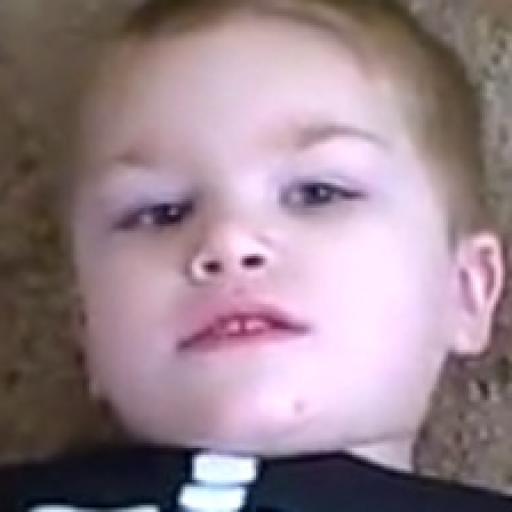Autism: (68, 9, 506, 436)
